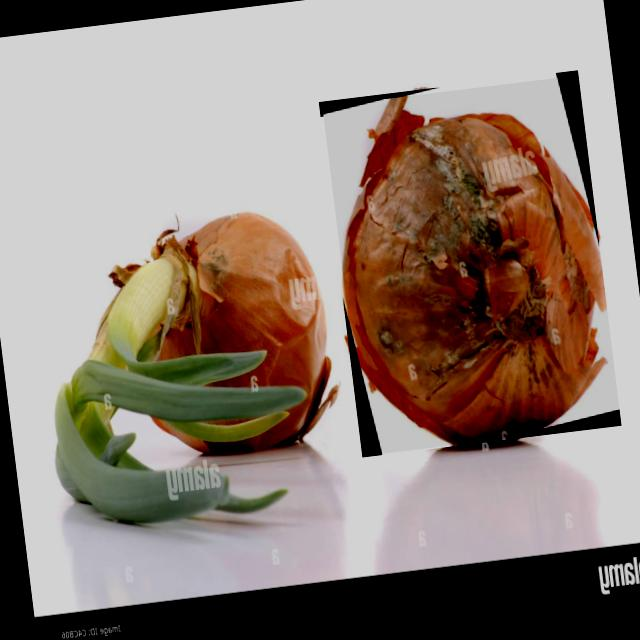rotten: (343, 97, 606, 444)
